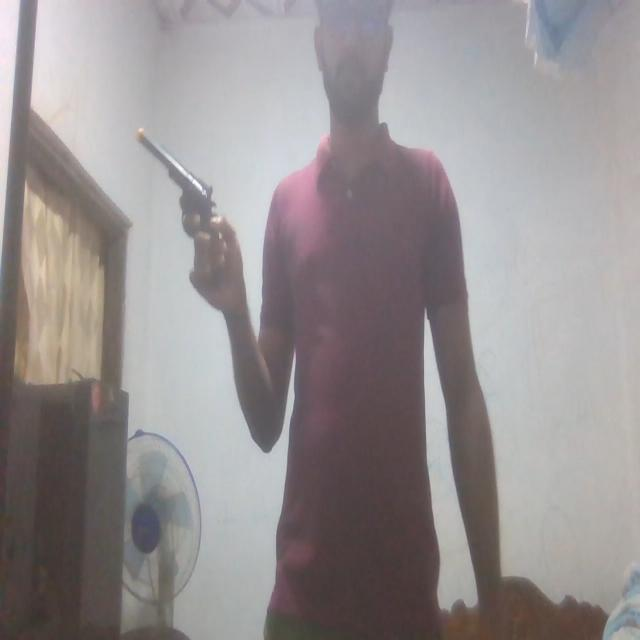Gun_Holder: (130, 124, 224, 290)
Person: (194, 0, 506, 640)
